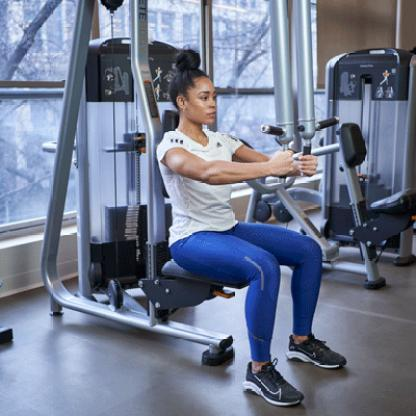chest fly machine: (39, 0, 359, 412)
